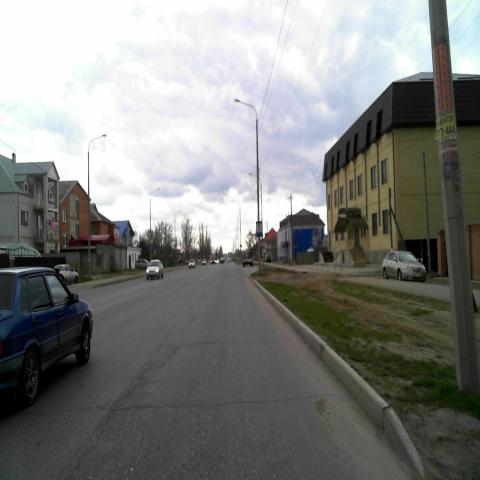7_4: (256, 221, 263, 238)
